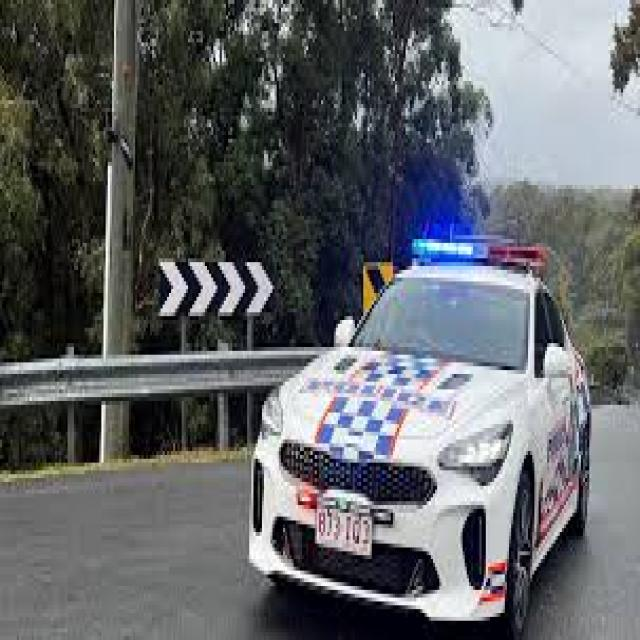emergency lights: (402, 215, 562, 294)
